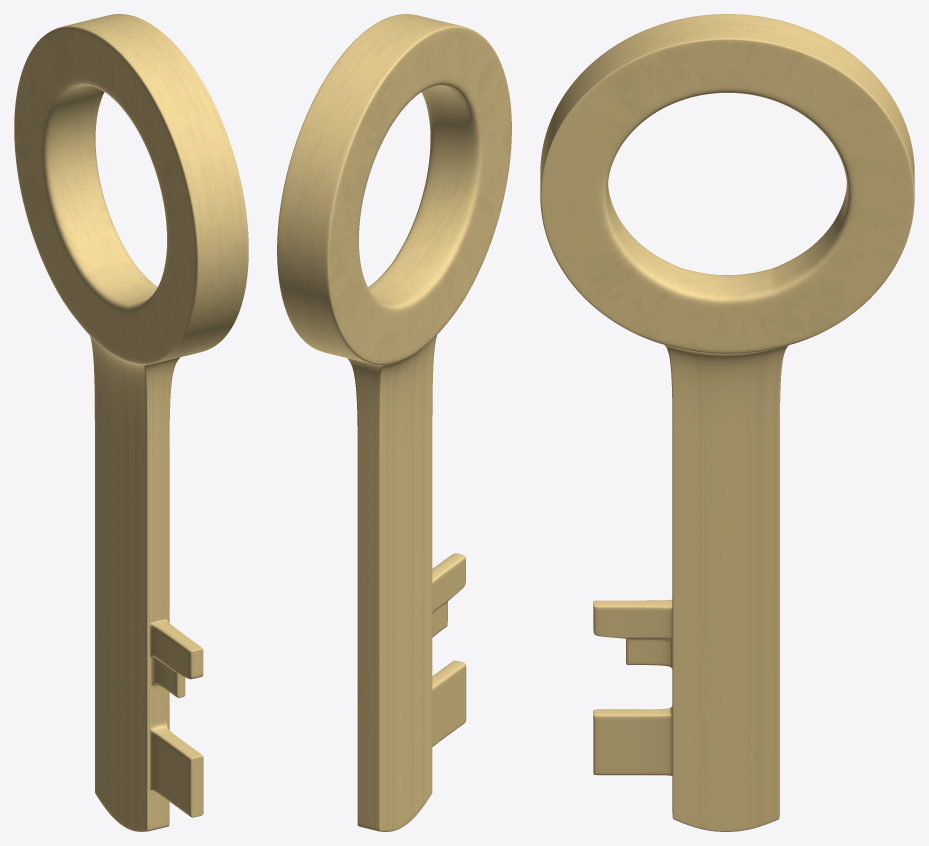
The model's file is key.fbx.
The picture shows the model from 3 angles, left to right: view 1: azimuth 30°, elevation 25°; view 2: azimuth 150°, elevation 25°; view 3: azimuth 270°, elevation 25°; orthographic projection.
Visible parts, largest first — view 1: Cylinder; view 2: Cylinder; view 3: Cylinder.
Part boxes in pixels (x1,y1,x2,y2): Cylinder: (14, 14, 248, 831); Cylinder: (277, 14, 511, 831); Cylinder: (540, 14, 914, 831).
Bounding box in the file's own units: 0.03 × 0.4344 × 0.1841.
